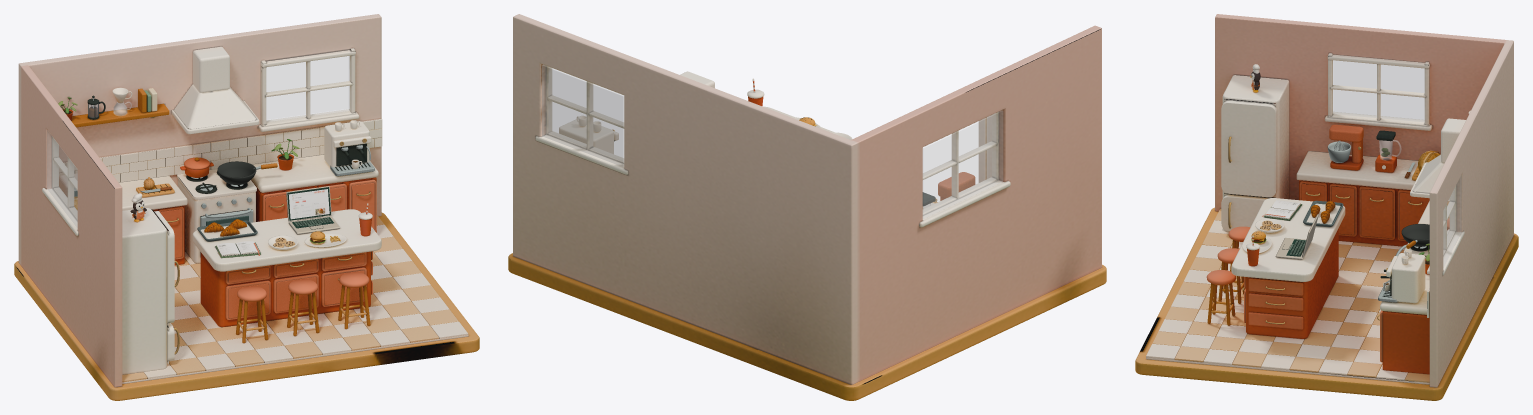
The model's file is kitchen.glb.
3 views of the same model, side by side, from view 1: azimuth 30°, elevation 25°; view 2: azimuth 150°, elevation 25°; view 3: azimuth 270°, elevation 25° (orthographic). The views are drawn at different scales.
Visible parts, largest first — view 1: Baked kitchen architecture, Baked kitchen details, Live glass and reflective metal; view 2: Baked kitchen architecture, Live glass and reflective metal, Baked kitchen details; view 3: Baked kitchen architecture, Baked kitchen details, Live glass and reflective metal.
Boxes of the visible parts, <box> form: Baked kitchen architecture: <box>14,14,479,400</box>; Baked kitchen details: <box>58,46,468,382</box>; Live glass and reflective metal: <box>47,56,374,354</box>; Baked kitchen architecture: <box>508,14,1106,400</box>; Live glass and reflective metal: <box>542,65,1002,218</box>; Baked kitchen details: <box>559,71,975,208</box>; Baked kitchen architecture: <box>1135,14,1518,400</box>; Baked kitchen details: <box>1146,64,1470,382</box>; Live glass and reflective metal: <box>1228,60,1461,324</box>.
Bounding box in the file's own units: 15.98 × 8.38 × 14.11.
9 materials, 2 textured.
